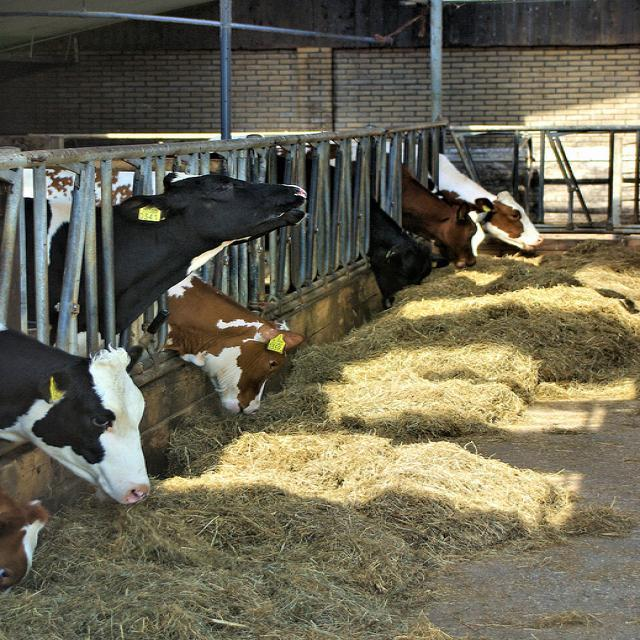cow: (0, 167, 306, 351), (0, 328, 149, 507), (164, 270, 311, 414), (431, 152, 543, 250), (368, 193, 447, 308), (402, 161, 481, 267), (20, 158, 154, 204), (0, 490, 49, 587)
